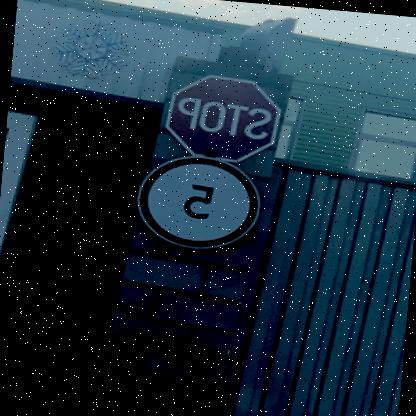speedlimit: (136, 151, 268, 253)
stop: (166, 70, 286, 164)
